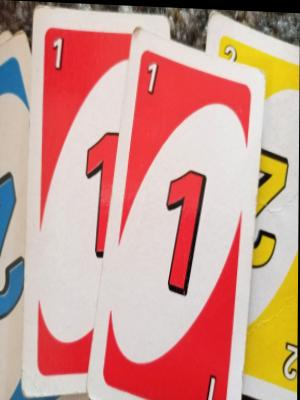blue: (0, 28, 32, 400)
num_1: (157, 159, 215, 307), (79, 114, 126, 271), (142, 48, 163, 98), (50, 30, 69, 75), (203, 365, 221, 400)
num_2: (251, 137, 296, 276), (0, 160, 29, 325), (281, 328, 298, 385)
